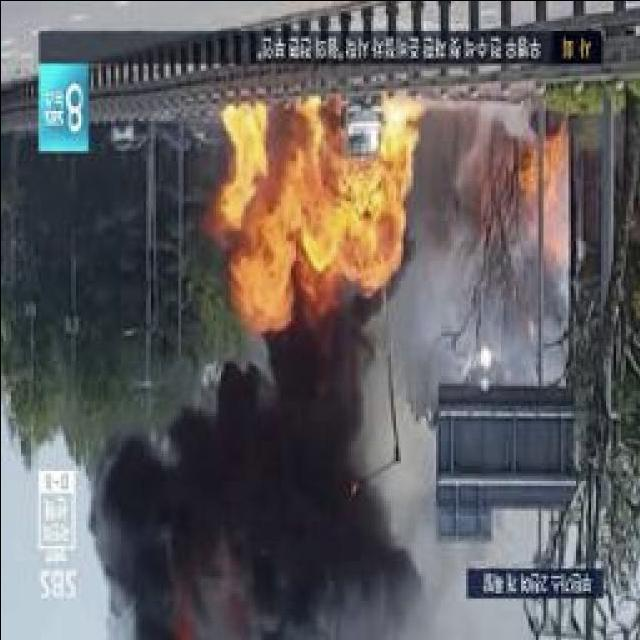Fire: (230, 104, 407, 287), (530, 143, 566, 204)
